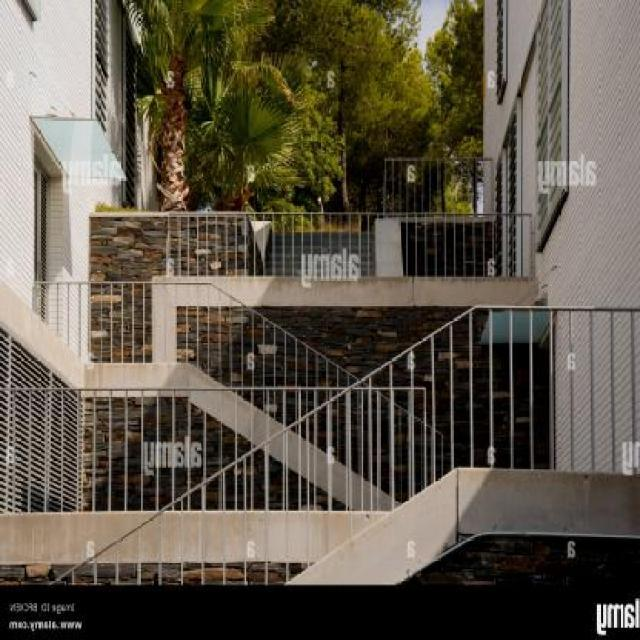stair: (124, 259, 524, 547)
